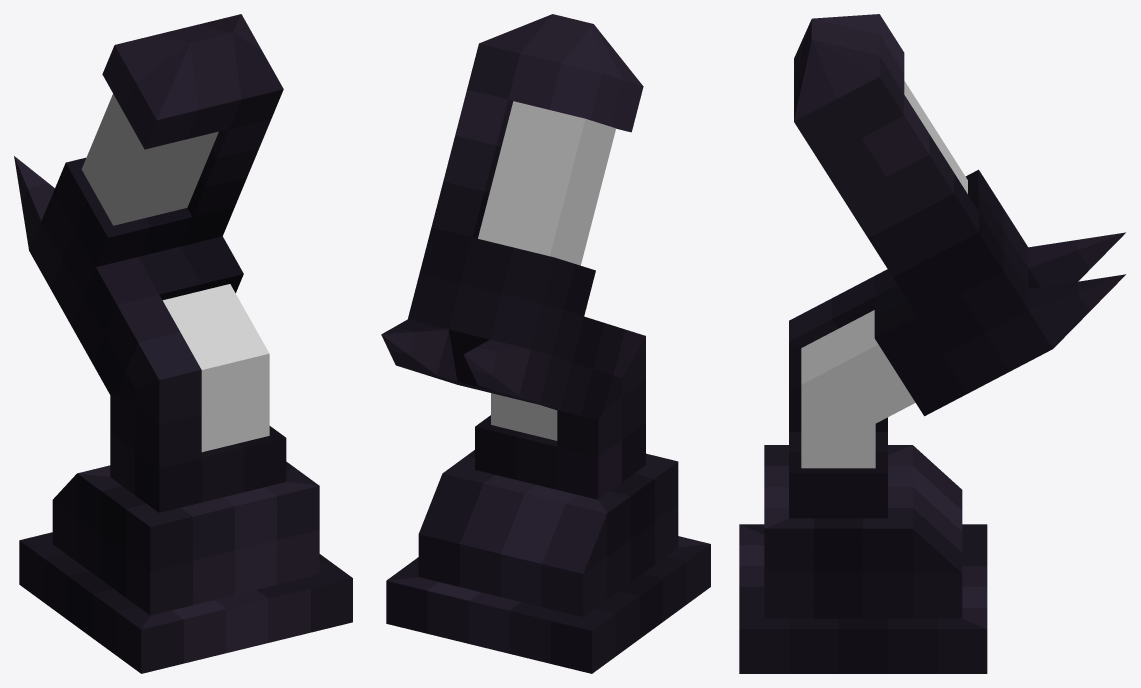
File: leg_basic_l.obj
3 views of the same model, side by side, from view 1: azimuth 30°, elevation 25°; view 2: azimuth 150°, elevation 25°; view 3: azimuth 270°, elevation 25° (orthographic). The views are drawn at different scales.
Parts seen in each view (by area): view 1: LEG_LEFT_BASIC.OBVAR_Cube.316, LEG_LEFT_DECO_OBSIDIAN_Cube.376; view 2: LEG_LEFT_BASIC.OBVAR_Cube.316, LEG_LEFT_DECO_OBSIDIAN_Cube.376; view 3: LEG_LEFT_BASIC.OBVAR_Cube.316, LEG_LEFT_DECO_OBSIDIAN_Cube.376.
Part boxes in pixels (bbox=[...]): LEG_LEFT_BASIC.OBVAR_Cube.316: bbox=[19, 14, 352, 673]; LEG_LEFT_DECO_OBSIDIAN_Cube.376: bbox=[14, 156, 54, 287]; LEG_LEFT_BASIC.OBVAR_Cube.316: bbox=[386, 14, 710, 673]; LEG_LEFT_DECO_OBSIDIAN_Cube.376: bbox=[381, 319, 539, 401]; LEG_LEFT_BASIC.OBVAR_Cube.316: bbox=[739, 14, 1028, 673]; LEG_LEFT_DECO_OBSIDIAN_Cube.376: bbox=[1010, 232, 1125, 371].
Bounding box in the file's own units: 0.3125 × 0.8246 × 0.4883.
